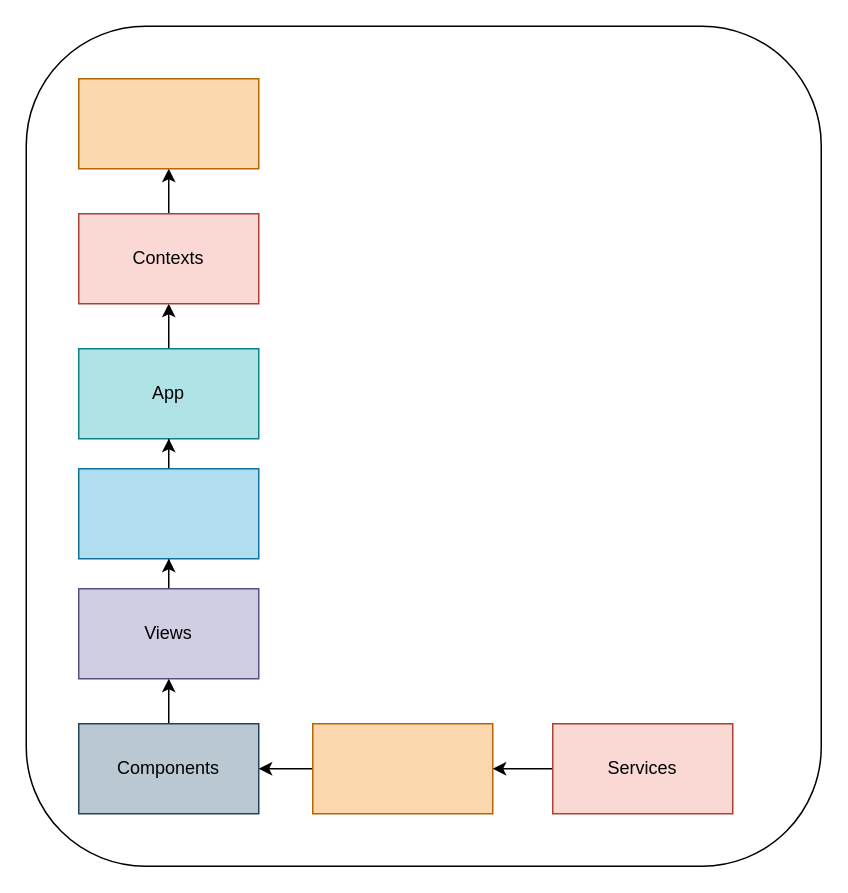
This 848x893 diagram has some shape labels left out. Here are the shapes that lost their labels. From the top down, the centre of each, then its label:
At (x=168, y=123): "index".
At (x=168, y=513): "Routes".
At (x=402, y=768): "Hooks".
